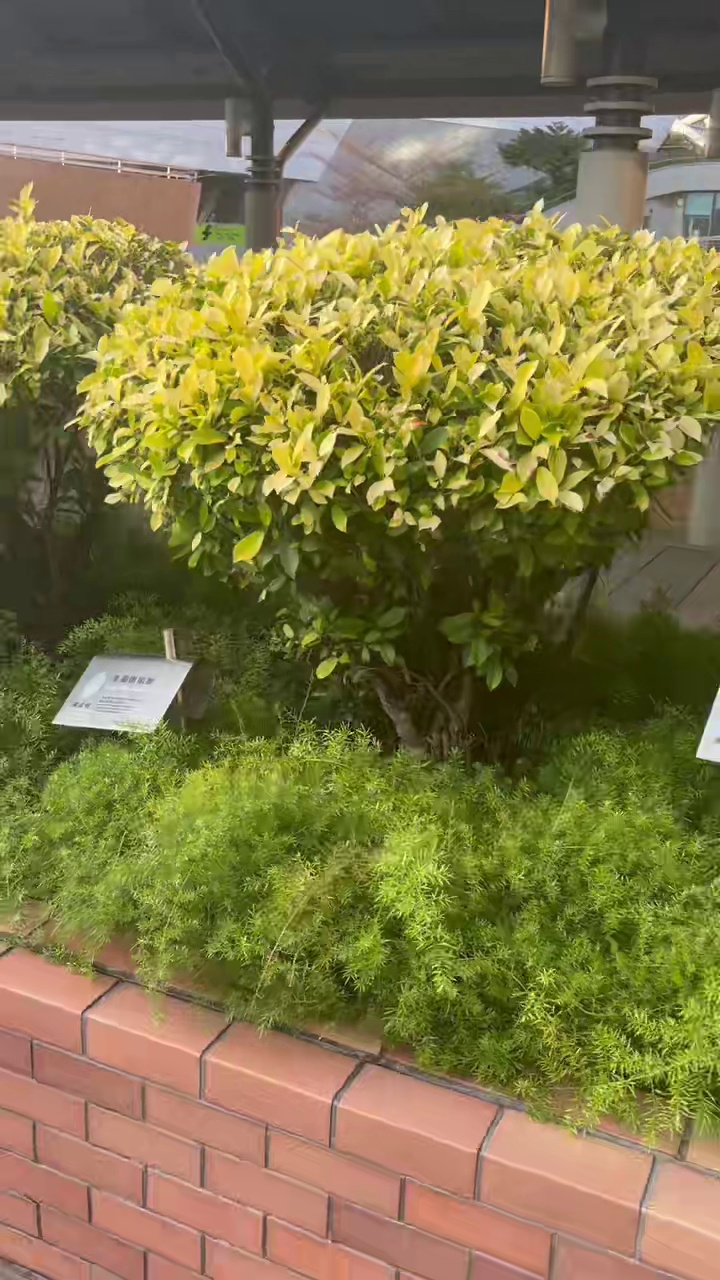Golden-leaves Fig: (76, 206, 719, 754)
